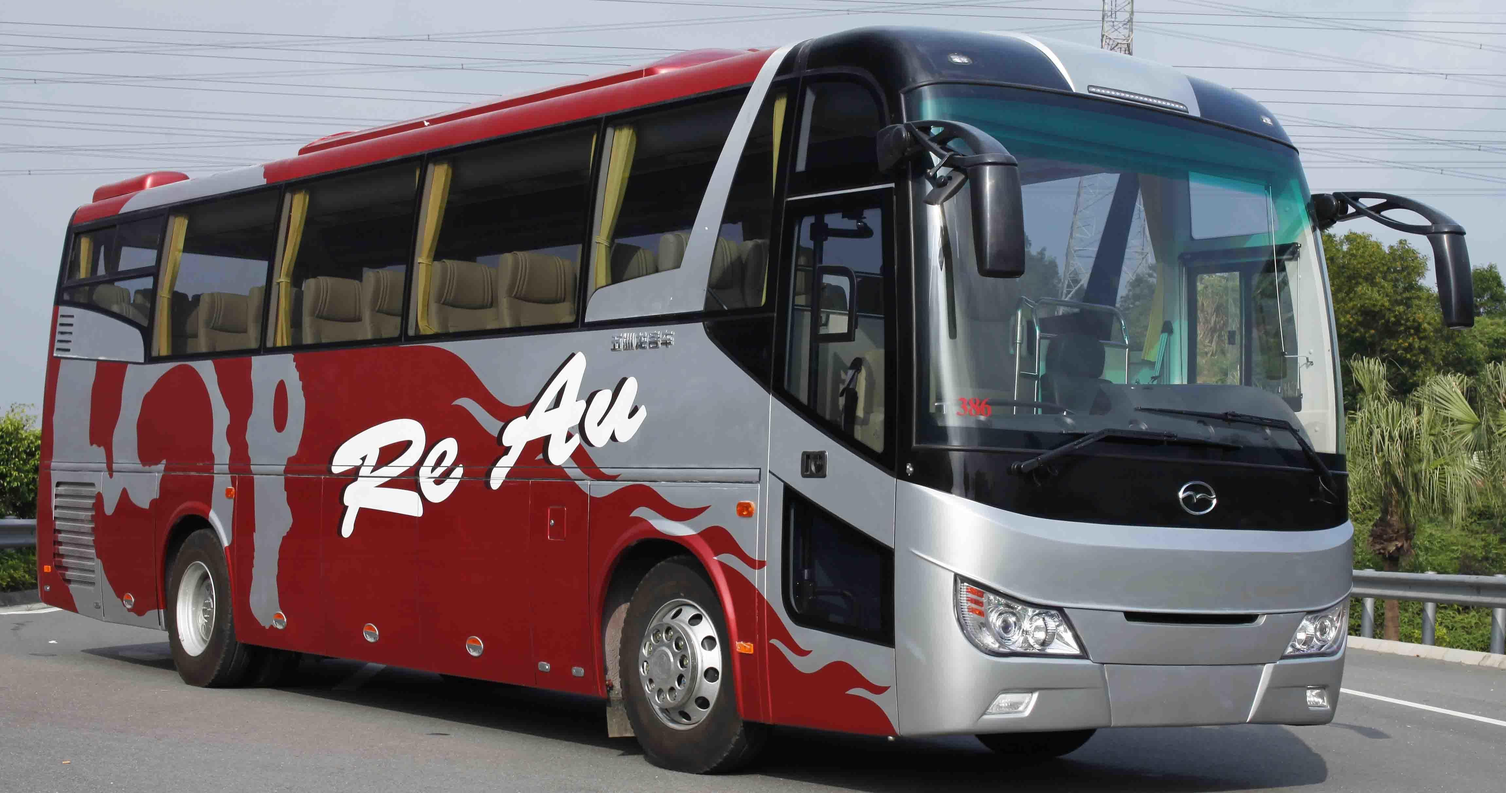Bus: (33, 27, 1357, 776)
